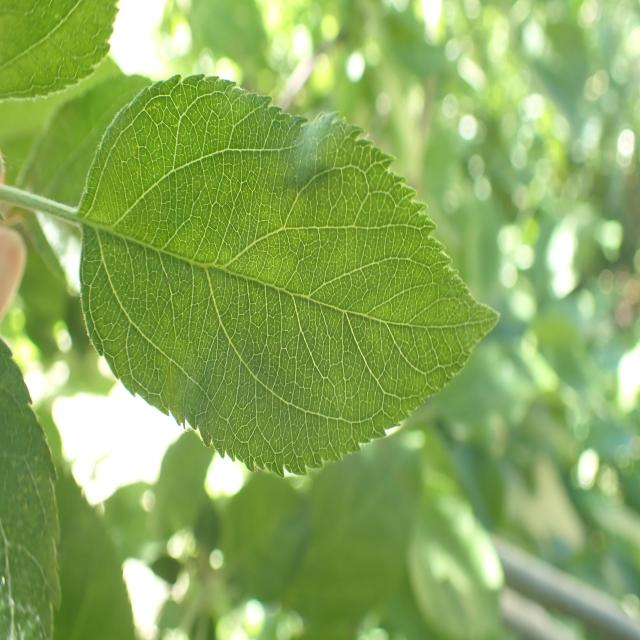healthy: (79, 73, 502, 478), (0, 337, 62, 640), (0, 0, 120, 102)
